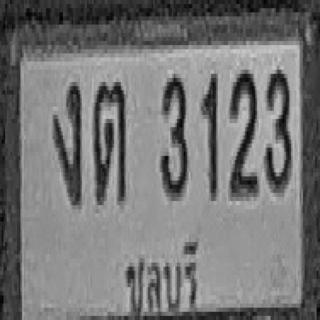A07: (53, 80, 82, 207)
A21: (94, 80, 126, 203)
N01: (201, 72, 218, 199)
N02: (229, 68, 258, 195)
N03: (264, 66, 291, 193), (160, 74, 187, 197)
P13: (120, 232, 204, 320)
